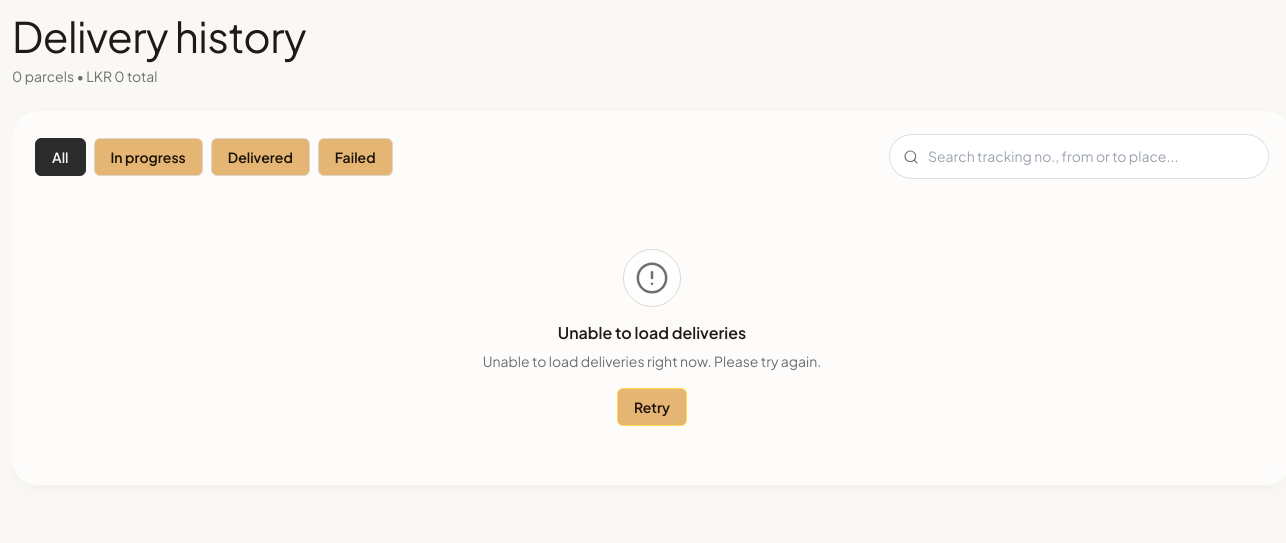
Test case: HistoryPage Component › renders error state with retry button on network failure
The width and height of the screenshot is (1286, 543).
Check: the heading "Unable to load deliveries" is shown, box [558,321,746,345]
Click the button "Retry".
click(652, 407)  # box [617,388,687,426]
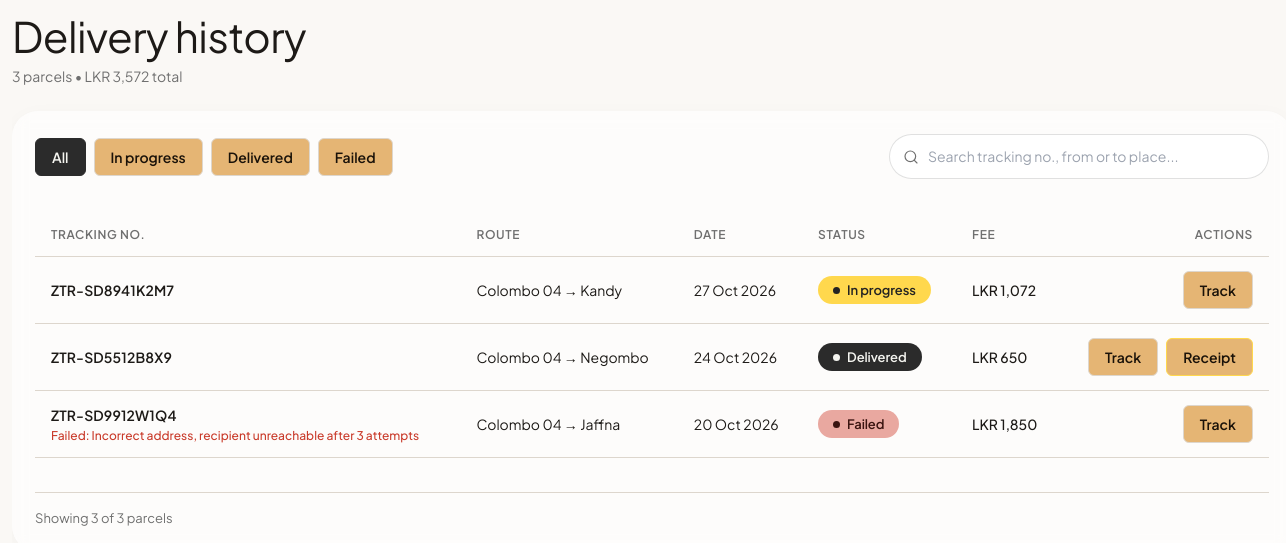
Check: the text "ZTR-SD8941K2M7" is shown, box [51,281,174,299]
